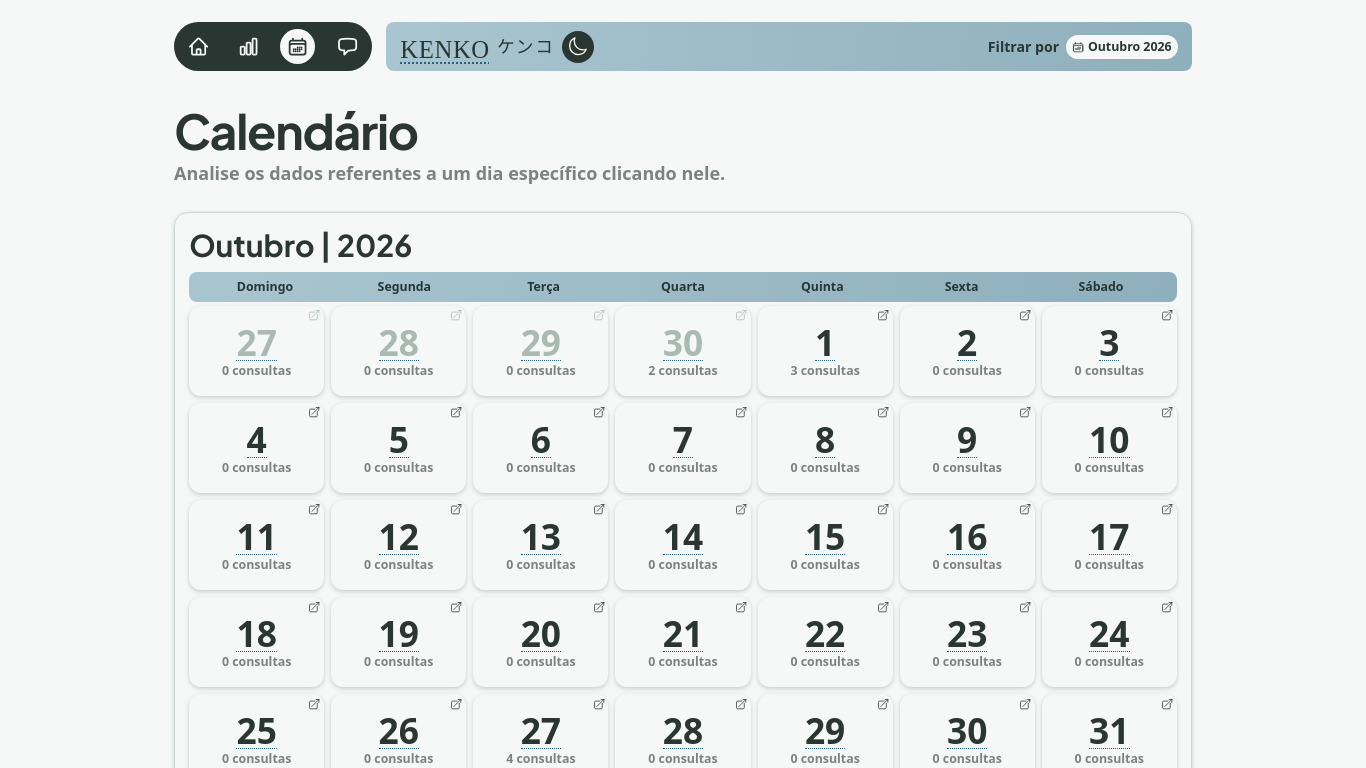
Scenario: filtra mês pela URL, preserva parâmetros extras e limita valores fora da faixa
The image size is (1366, 768).
Later steps or results of the test are not shown.
Expected: the heading "Outubro | 2026" is shown, [189,226,412,264]
Click the heading named "Mês e ano".
click(1122, 47)  # box [1066,35,1178,59]
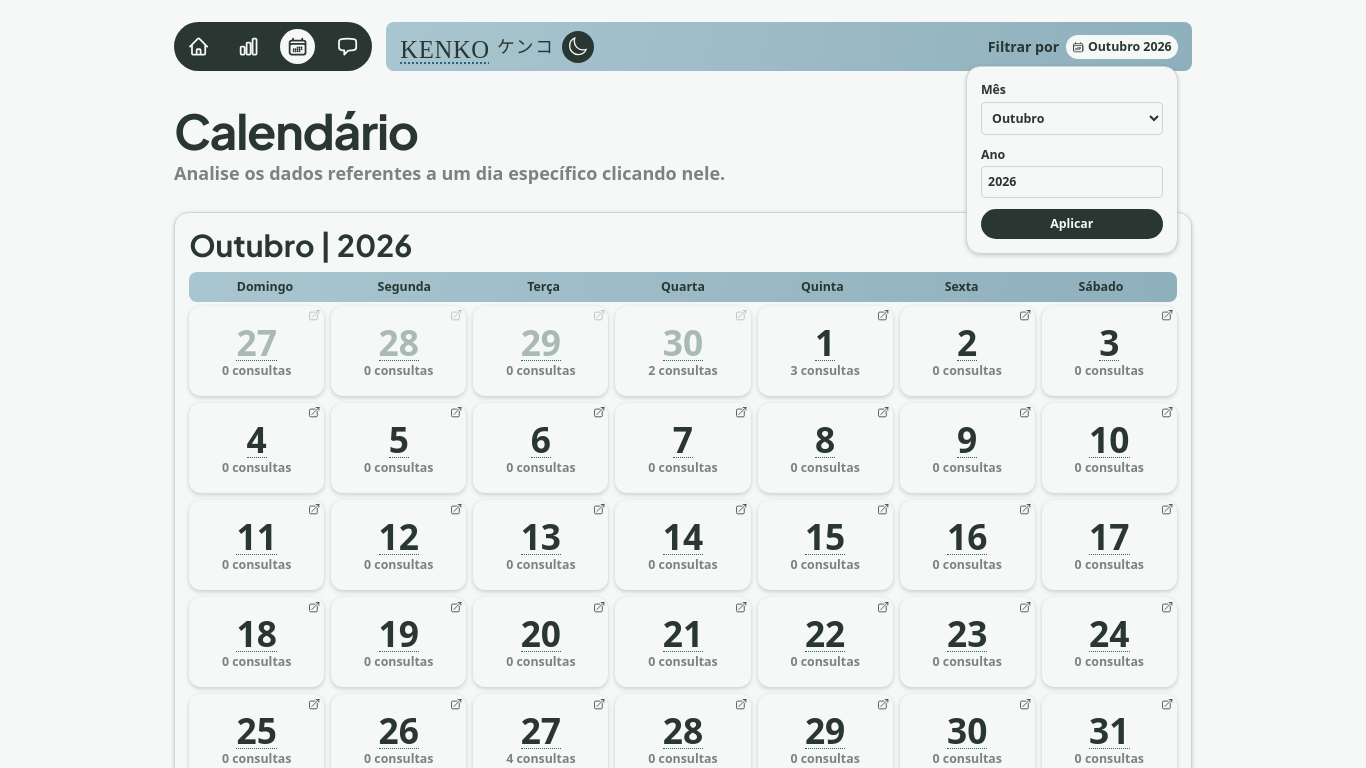
Select "Setembro" in the dropdown labelled "Mês" at (1072, 118), box [981,102,1163,135]
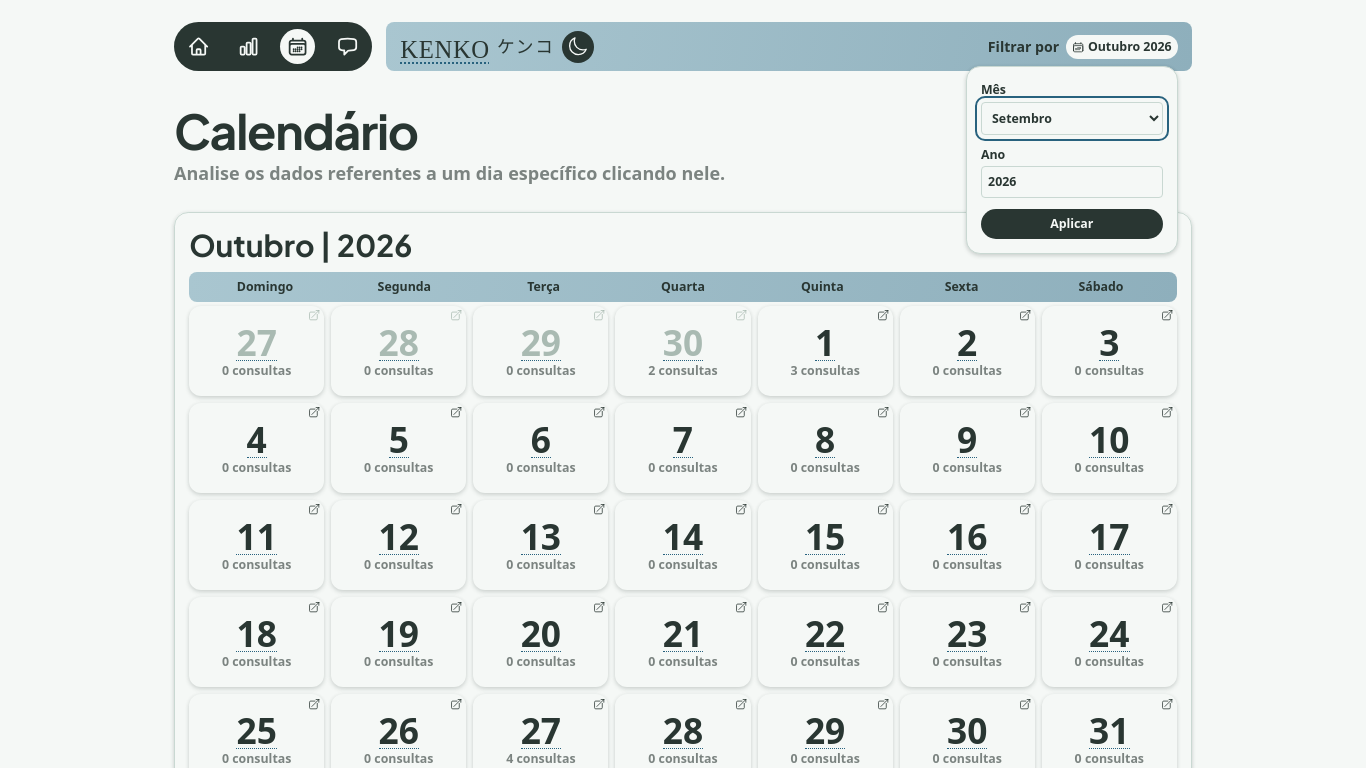
Click the button "Aplicar".
click(1072, 224)  # box [981,209,1163,239]
(page scrolled)
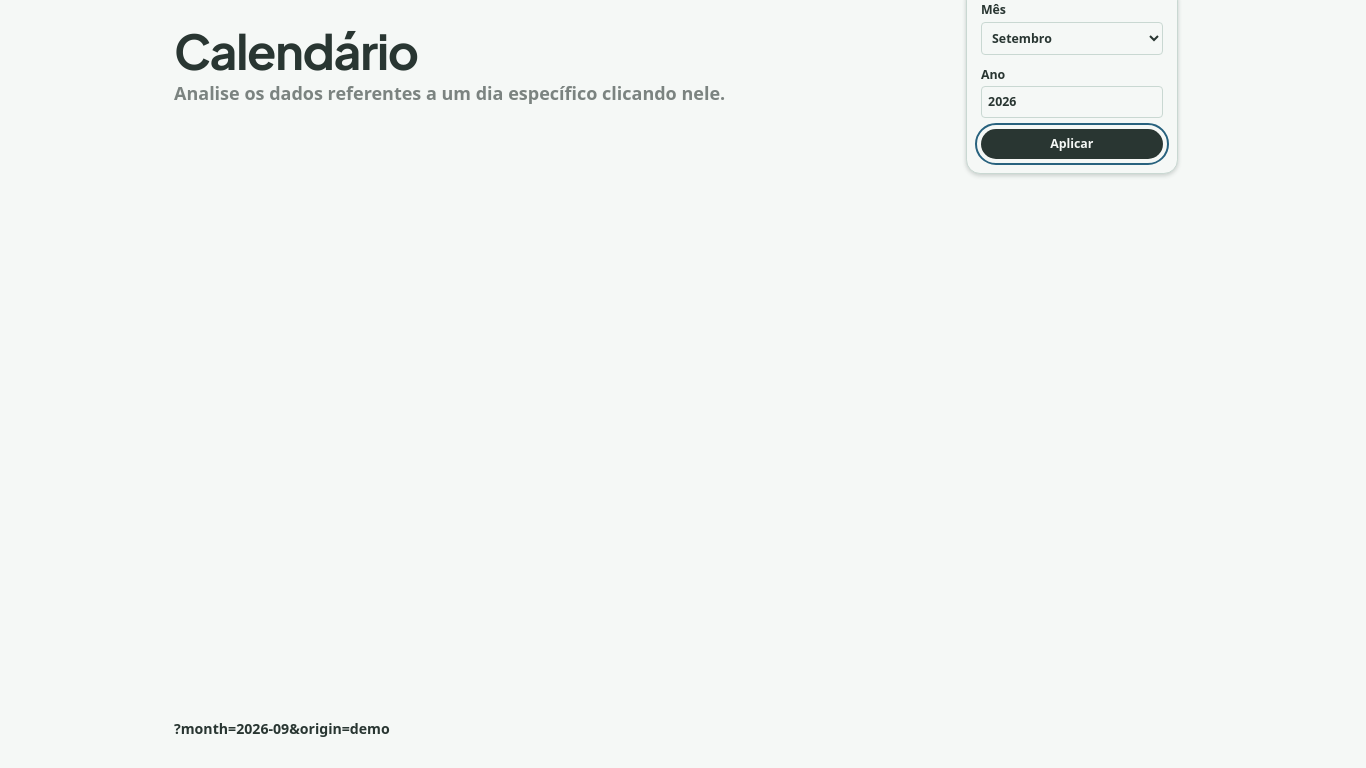
Now the text named "URL atual" reads "?month=2026-09&origin=demo", box [174,719,390,738]
